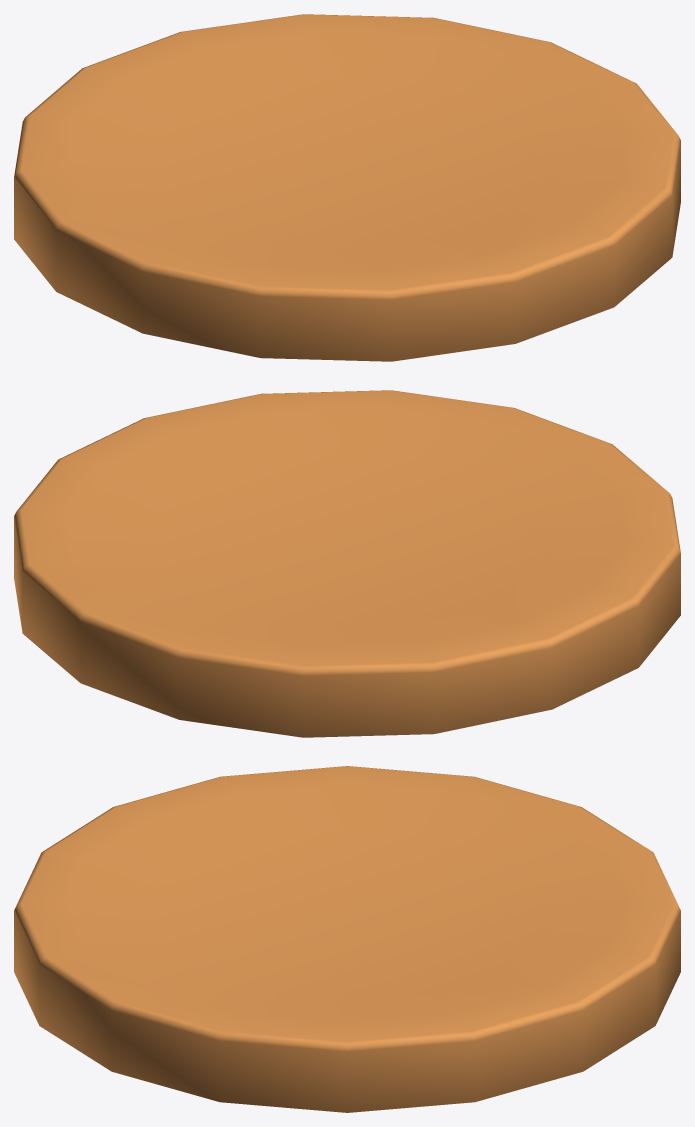
Rendered from burger_bun_bottom.fbx.
3 renders of one model, top to bottom at view 1: azimuth 30°, elevation 25°; view 2: azimuth 150°, elevation 25°; view 3: azimuth 270°, elevation 25°, orthographic.
Parts seen in each view (by area): view 1: bun_bottom; view 2: bun_bottom; view 3: bun_bottom.
Part boxes in pixels (<box>): bun_bottom: <box>14,14,680,361</box>; bun_bottom: <box>14,390,680,737</box>; bun_bottom: <box>14,766,680,1112</box>.
Size of the model in its own units: 258 by 34.77 by 258.
Materials: 1 (1 with a texture image).
